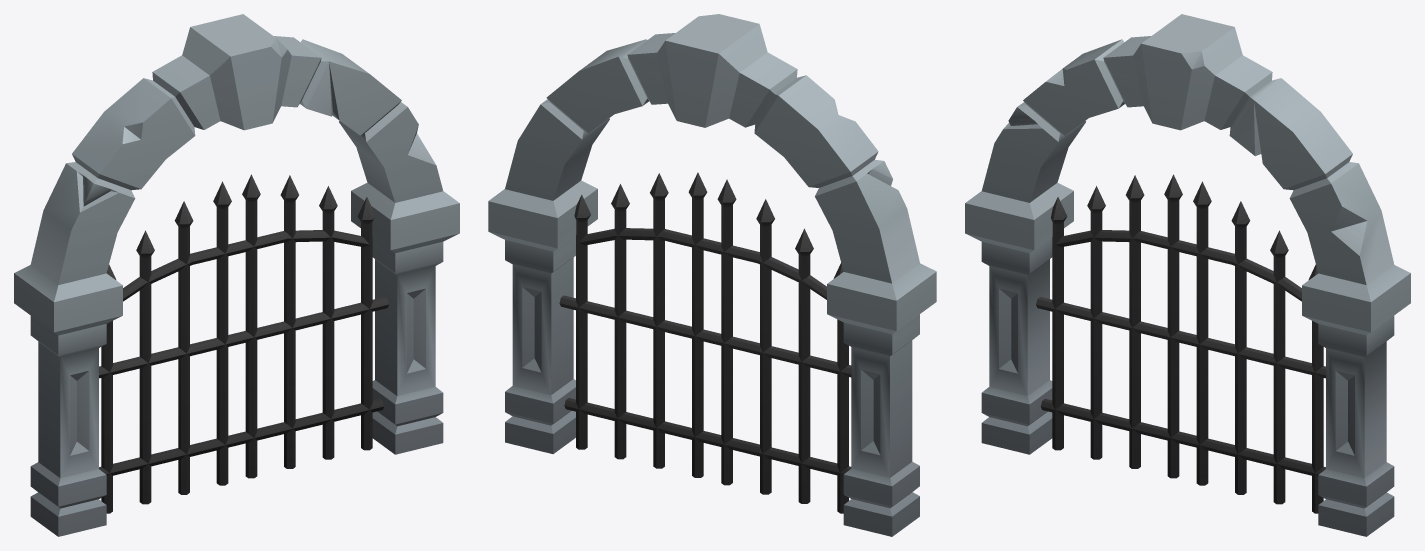
The model's file is arch_gate.glb.
3 views of the same model, side by side, from view 1: azimuth 30°, elevation 25°; view 2: azimuth 150°, elevation 25°; view 3: azimuth 330°, elevation 25° (orthographic).
Parts seen in each view (by area): view 1: arch_gate, arch_gate_left, arch_gate_right; view 2: arch_gate, arch_gate_left, arch_gate_right; view 3: arch_gate, arch_gate_right, arch_gate_left.
Boxes of the visible parts, x1,y1,x2,y2 form: arch_gate: (14,14,459,536); arch_gate_left: (236,174,388,478); arch_gate_right: (99,181,239,513); arch_gate: (488,14,936,536); arch_gate_left: (559,172,713,477); arch_gate_right: (709,179,851,513); arch_gate: (965,14,1410,536); arch_gate_right: (1036,174,1188,478); arch_gate_left: (1185,181,1325,513).
Bounding box in the file's own units: 4.22 × 4.41 × 0.7699.
1 material, 1 textured.
